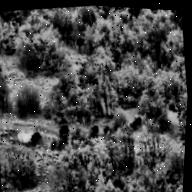boar: (28, 127, 46, 149), (55, 133, 70, 153), (132, 116, 145, 134), (56, 120, 69, 136), (49, 135, 58, 151), (90, 123, 100, 136), (102, 121, 110, 136)
